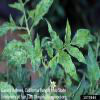Tomato leaf mosaic virus: (57, 51, 81, 83), (70, 26, 96, 50), (44, 17, 62, 51), (65, 43, 88, 67), (5, 49, 27, 71), (33, 32, 41, 56), (50, 59, 58, 78)
